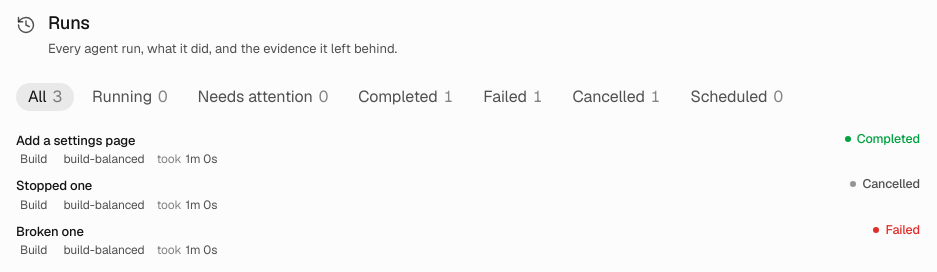
Test: Runs destination › filters by status and counts each filter
Expected: the 3rd text "1" is shown, x1=651 y1=89 x2=660 y2=105
Click the button "Cancelled 1".
click(616, 97)  # box x1=560 y1=83 x2=672 y2=111
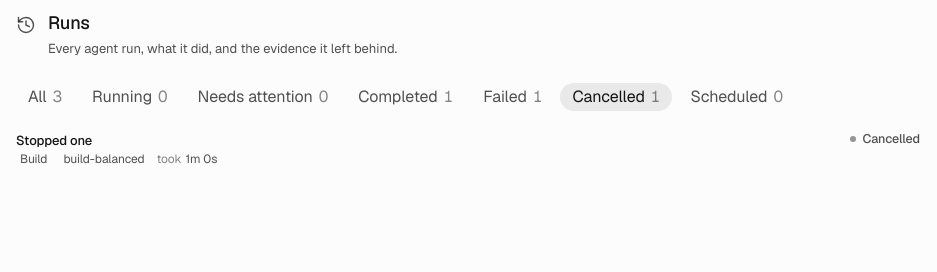
Expected: the text "Stopped one" is shown, x1=16 y1=132 x2=92 y2=149
Expected: the link "Broken one" is gone
